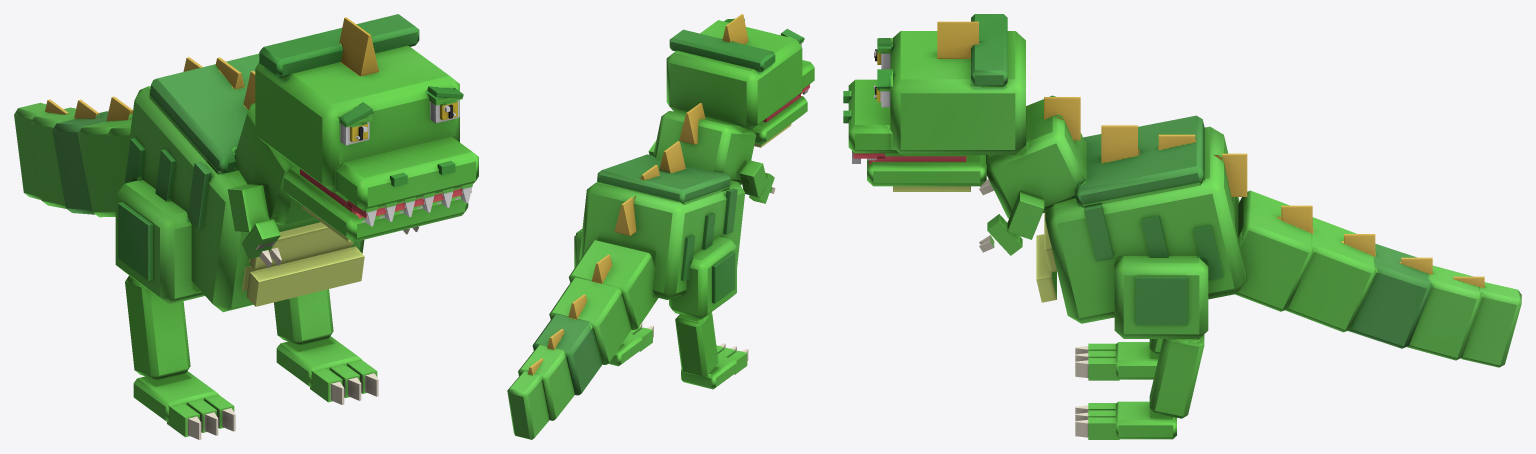
The model's file is TRexPoche_Rig.fbx.
The picture shows the model from 3 angles, left to right: view 1: azimuth 30°, elevation 25°; view 2: azimuth 150°, elevation 25°; view 3: azimuth 270°, elevation 25°; orthographic projection. The views are drawn at different scales.
Parts seen in each view (by area): view 1: Head, Body, LegR, Tail, LegL, Jaw, ArmR; view 2: Body, Tail, Head, LegR, Jaw, LegL, ArmR; view 3: Body, Tail, Head, LegL, Jaw, LegR, ArmL.
Boxes of the visible parts, x1,y1,x2,y2 form: Head: (255, 14, 478, 226); Body: (123, 53, 364, 312); LegR: (115, 179, 235, 439); Tail: (14, 96, 132, 217); LegL: (274, 289, 378, 404); Jaw: (283, 167, 468, 242); ArmR: (227, 184, 281, 267); Body: (579, 103, 756, 299); Tail: (507, 240, 658, 439); Head: (666, 14, 814, 129); LegR: (669, 236, 748, 389); Jaw: (753, 93, 807, 147); LegL: (574, 228, 653, 366); ArmR: (739, 160, 775, 203); Body: (986, 95, 1247, 323); Tail: (1235, 190, 1521, 367); Head: (843, 14, 1025, 163); LegL: (1075, 256, 1208, 439); Jaw: (867, 153, 986, 191); LegR: (1075, 339, 1162, 380); ArmL: (979, 192, 1044, 255).
Bounding box in the file's own units: 2.98 × 6 × 9.76.
1 material, 1 textured.
